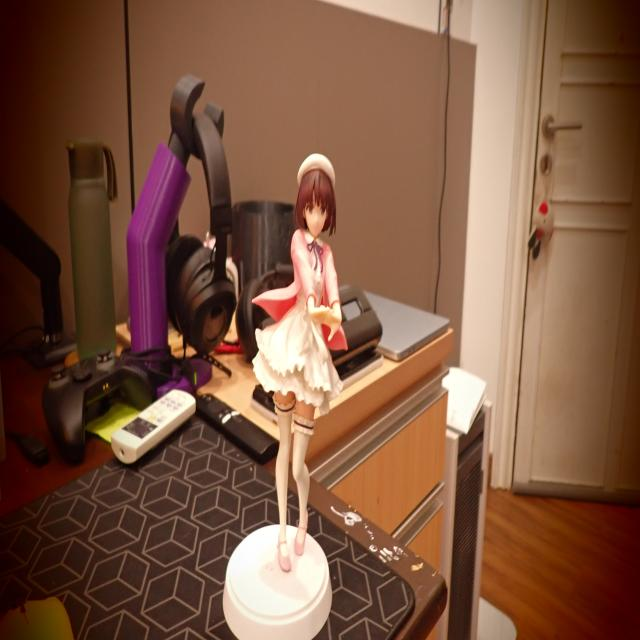My-pink-anime-figure: (223, 153, 347, 640)
